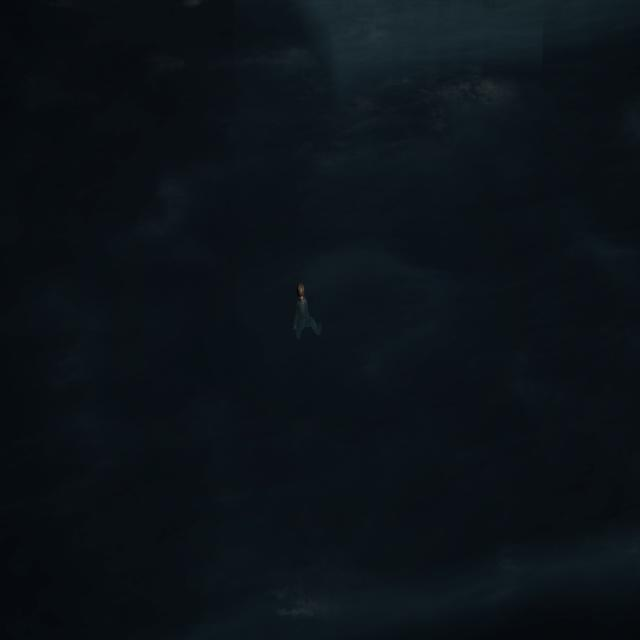Human: (287, 274, 325, 342)
